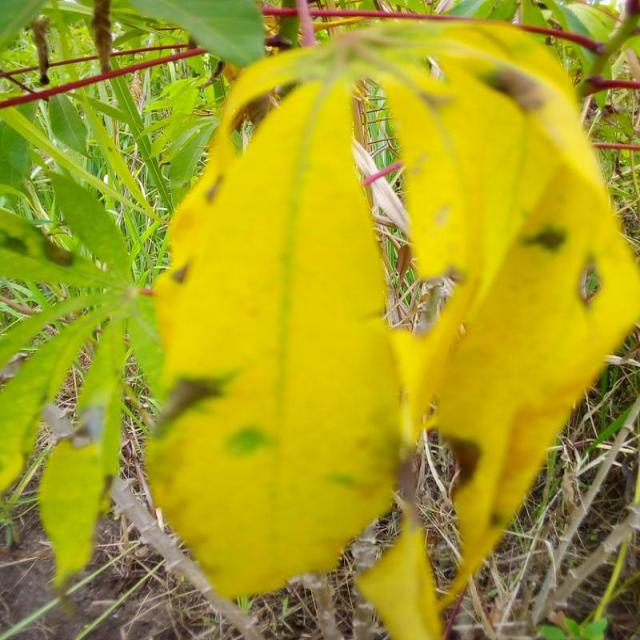cassava leaf: (144, 14, 638, 637), (143, 73, 406, 602)
